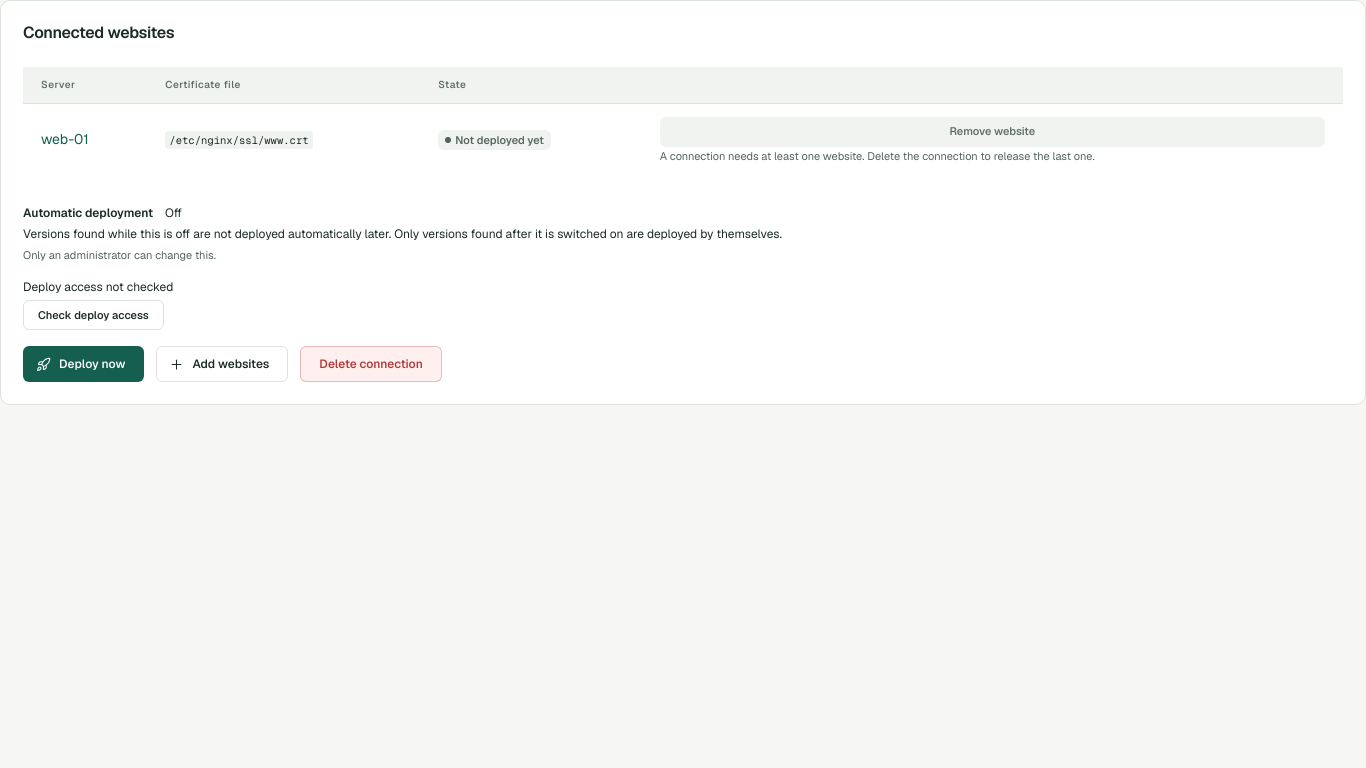
Test: BindingPanel with a connection › opens Deploy now with the connection's websites
Click the button "Deploy now". click: point(84, 364)
box: [23,346,144,382]
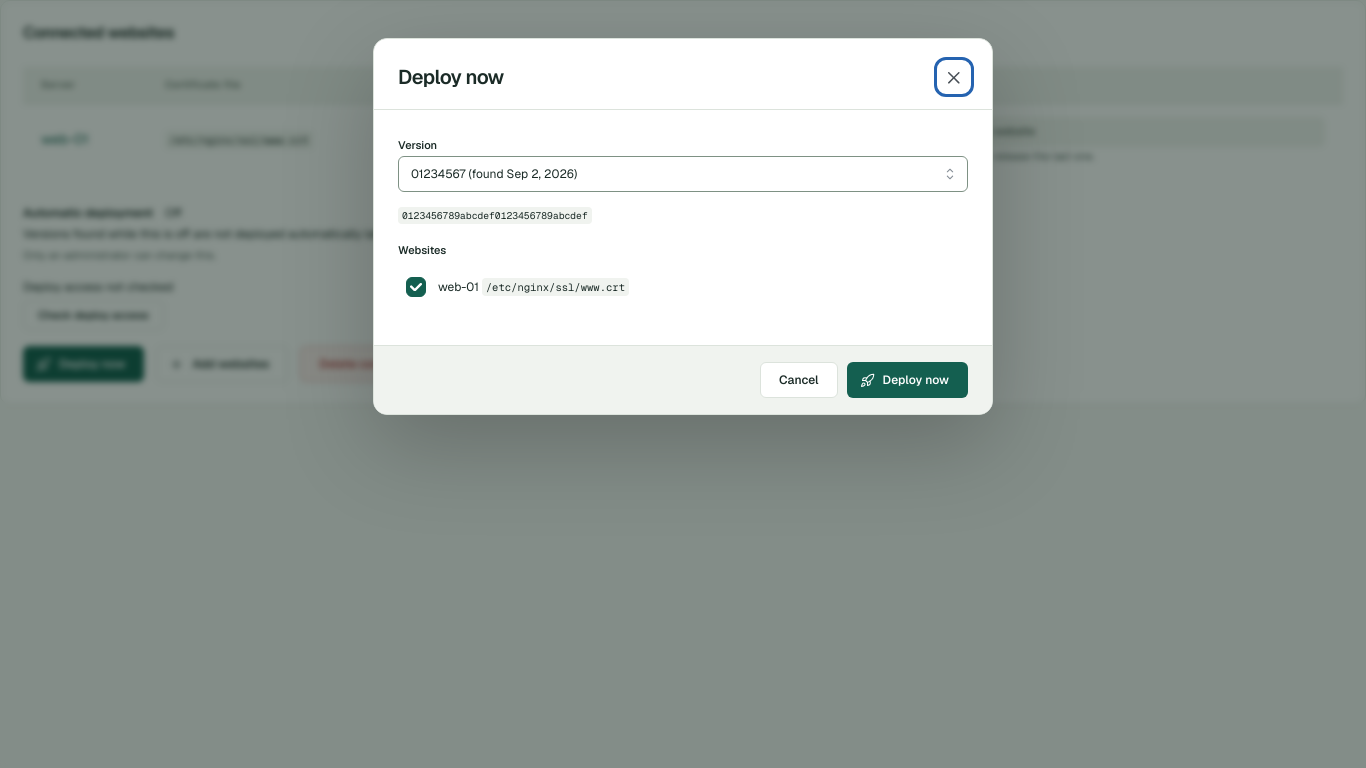
expect the dropdown labelled "Version" is shown: met, box [398,156,968,192]
expect the checkbox labelled "web-01 /etc/nginx/ssl/www.crt" is checked: met, box [406,277,426,297]
